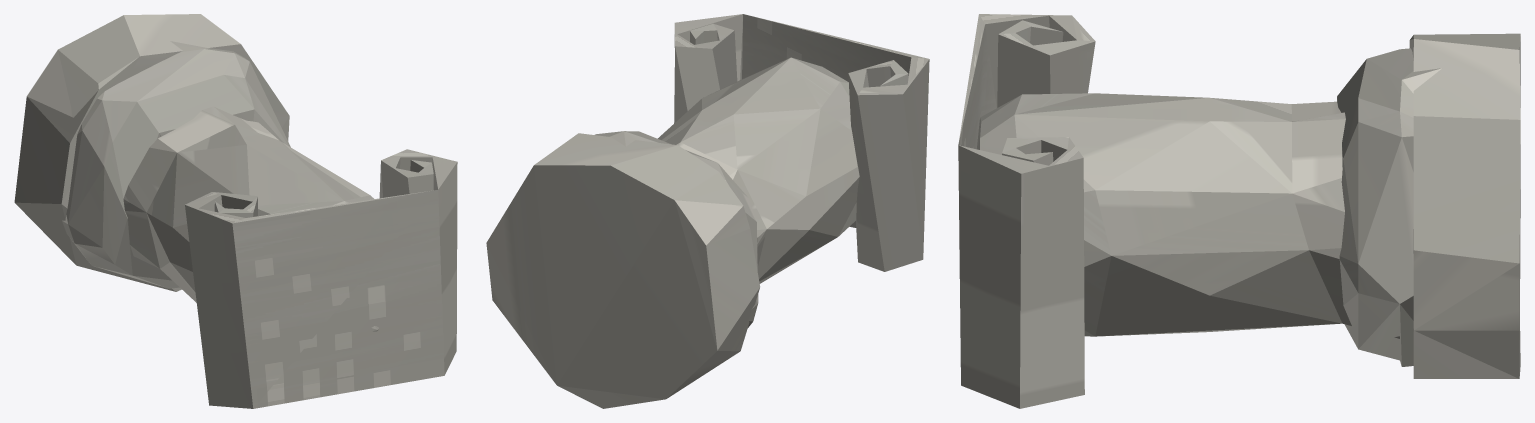
File: full-column-low-poly-opt.obj
3 renders of one model, left to right at view 1: azimuth 30°, elevation 25°; view 2: azimuth 150°, elevation 25°; view 3: azimuth 270°, elevation 25°, orthographic. The views are drawn at different scales.
Visible parts, largest first — view 1: Gengon004; view 2: Gengon004; view 3: Gengon004.
Boxes of the visible parts, x1,y1,x2,y2 form: Gengon004: (14,14,457,408); Gengon004: (486,14,929,408); Gengon004: (958,14,1520,408).
Bounding box in the file's own units: 110 × 103 × 169.
